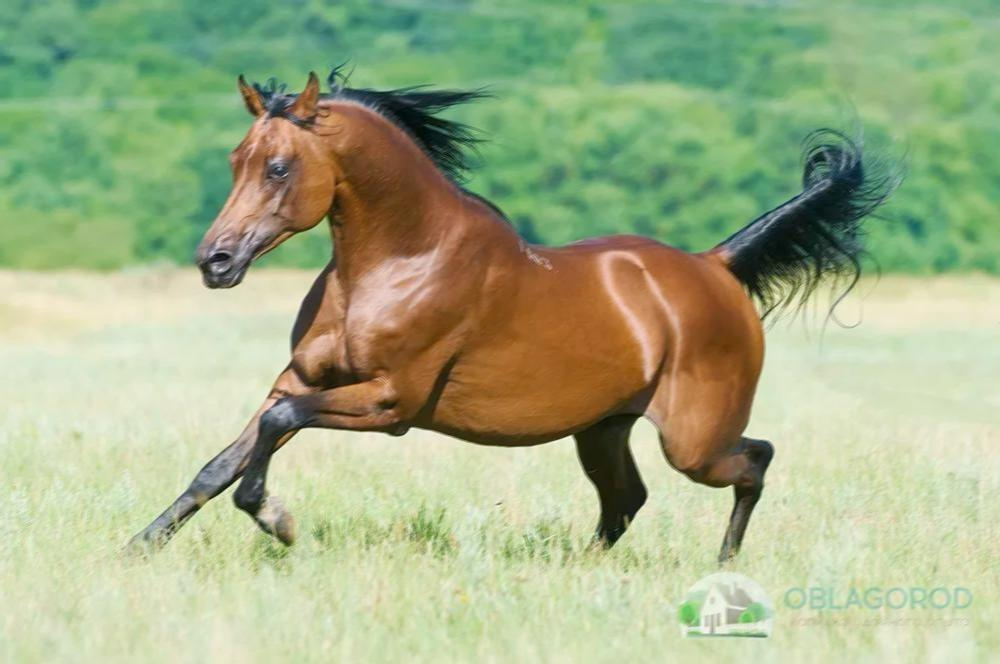horse: (117, 61, 910, 571)
